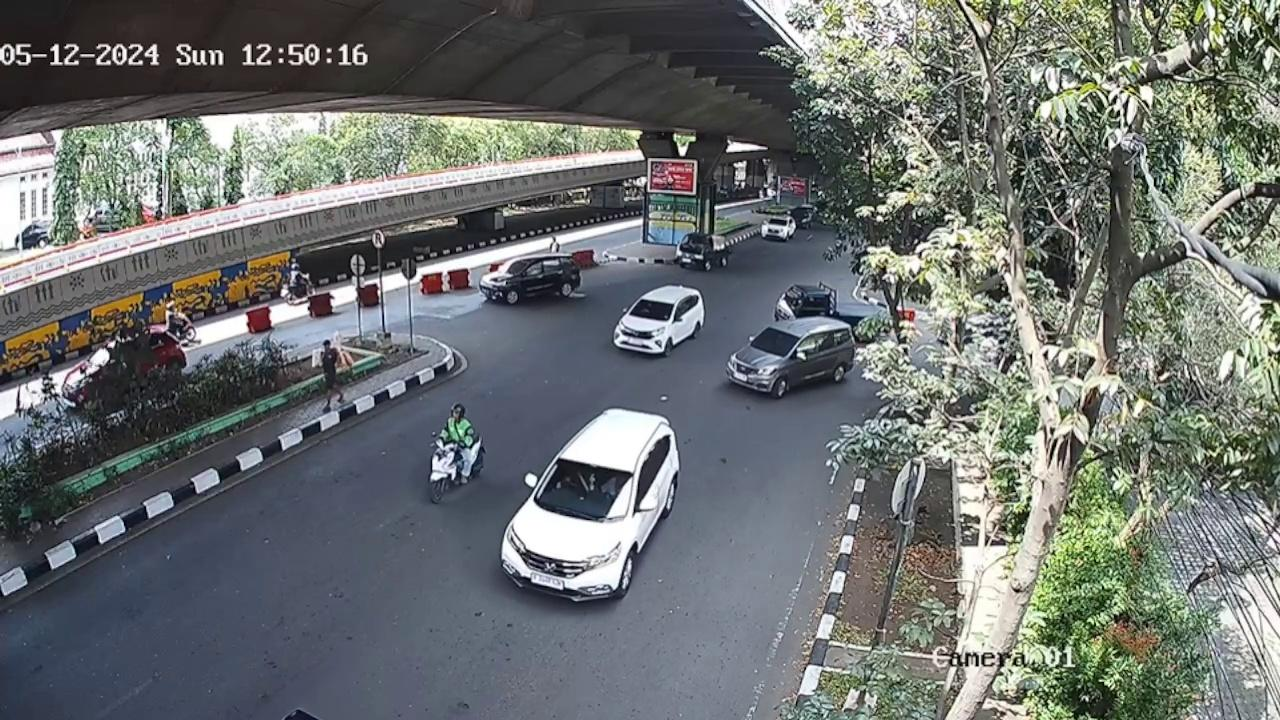pakai: (555, 465, 597, 500)
windshield: (537, 459, 635, 520), (627, 296, 677, 325)
